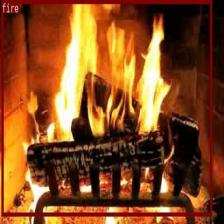fire: (1, 0, 211, 216)
